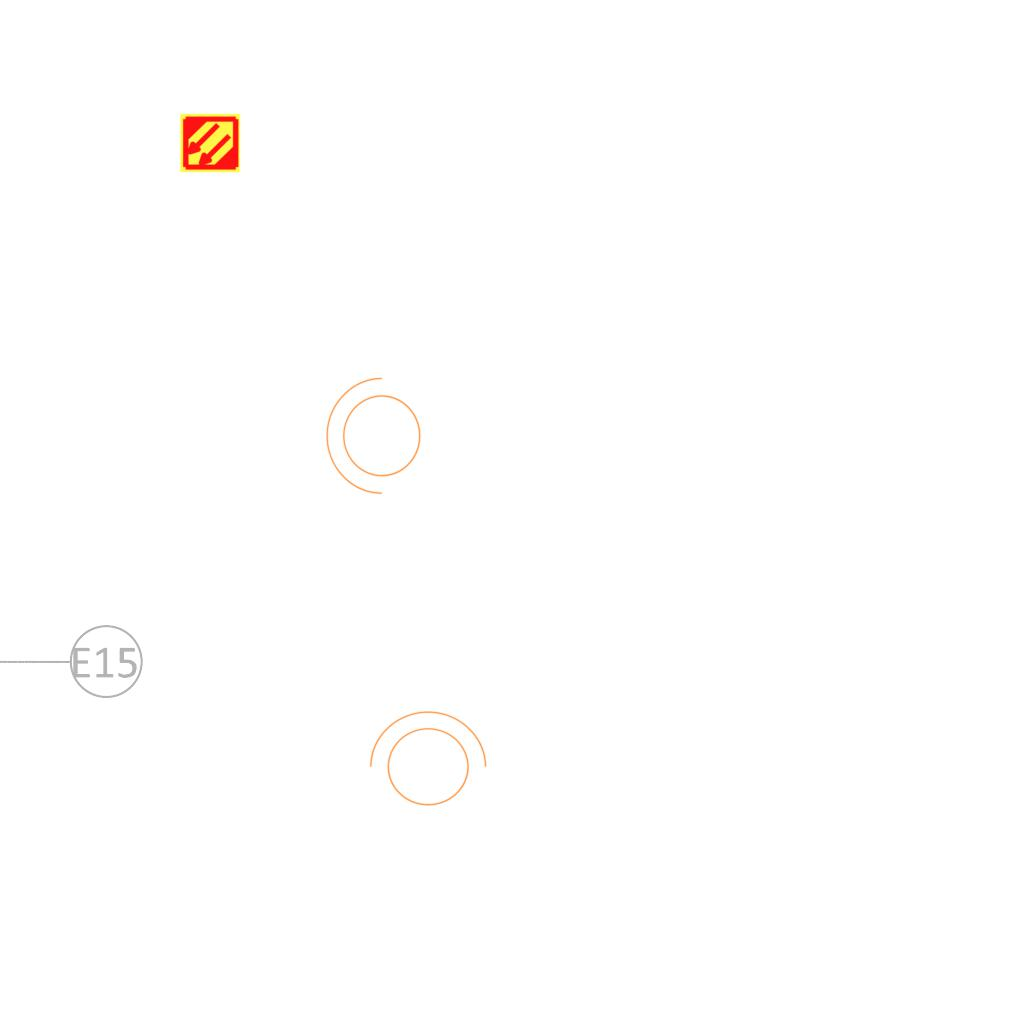ASR_Ansaugrauchmelder: (179, 112, 241, 174)
Scheinwerfer_fuer_Alarmbeleuchtung: (359, 706, 491, 818), (321, 373, 433, 505)
